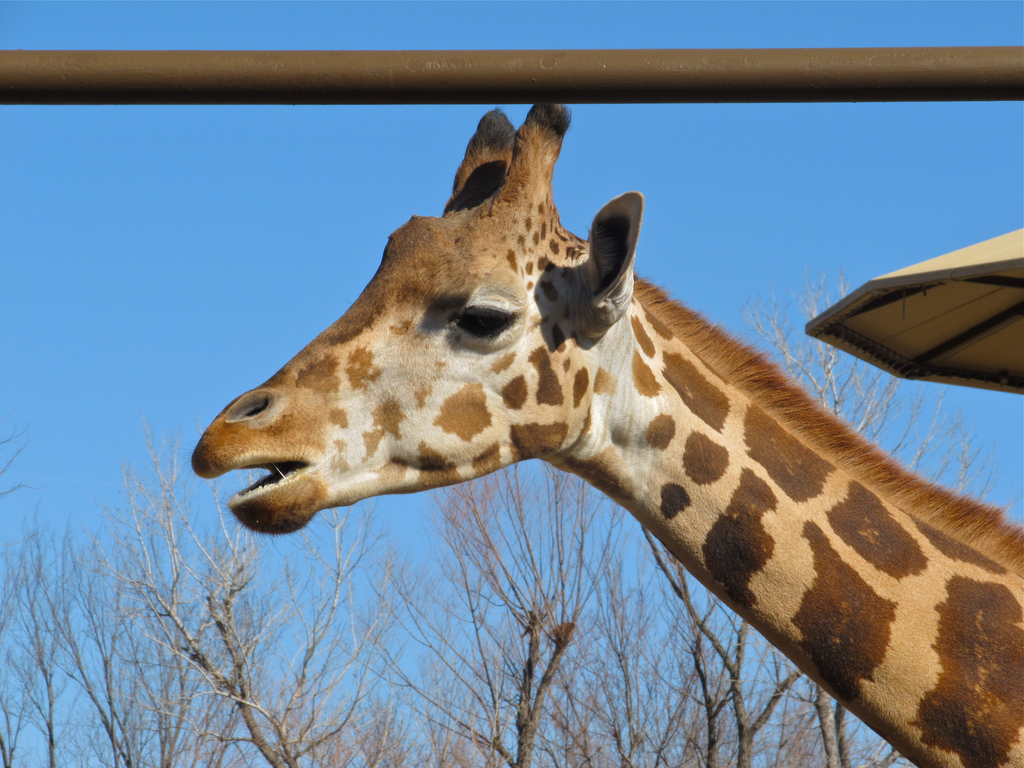giraffe: (181, 109, 988, 719)
